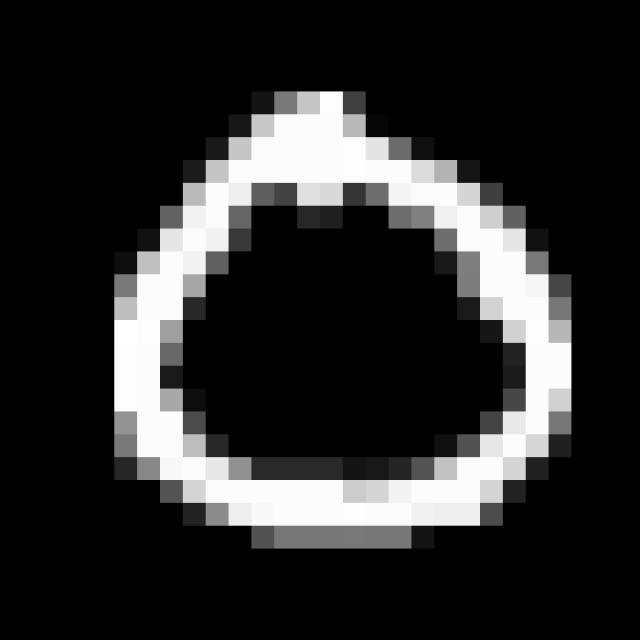zero -0-: (98, 73, 594, 566)
